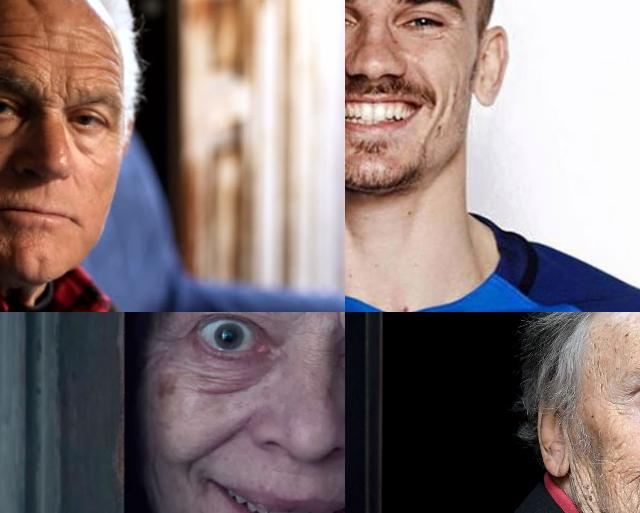crows_feet: (150, 330, 178, 364)
forehead: (82, 46, 116, 80), (32, 32, 72, 58), (74, 22, 104, 48), (0, 34, 16, 60)
frown_line: (36, 80, 68, 114), (332, 312, 345, 329)
gummy_smile: (190, 422, 250, 460), (0, 149, 6, 193)
masseter: (572, 468, 601, 513), (610, 459, 631, 513), (436, 79, 459, 123), (150, 456, 166, 498)
